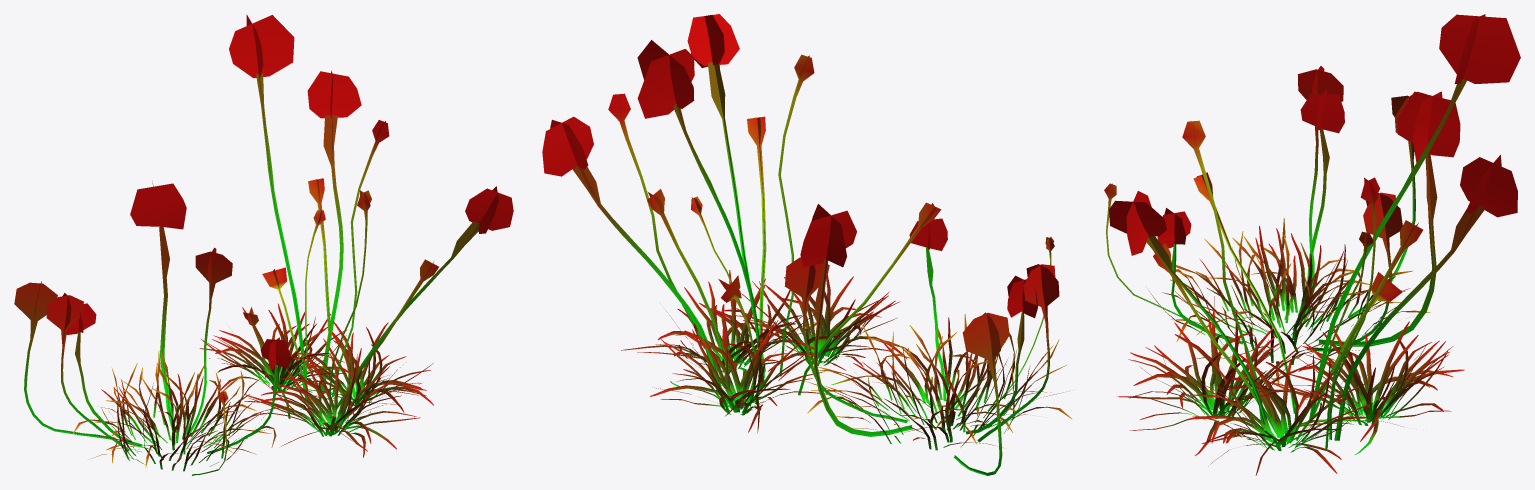
Rendered from Var6_LOD1.fbx.
3 views of the same model, side by side, from view 1: azimuth 30°, elevation 25°; view 2: azimuth 150°, elevation 25°; view 3: azimuth 270°, elevation 25° (orthographic). The views are drawn at different scales.
Parts seen in each view (by area): view 1: _xwj9_Var6_LOD1; view 2: _xwj9_Var6_LOD1; view 3: _xwj9_Var6_LOD1.
Boxes of the visible parts, <box> form: _xwj9_Var6_LOD1: <box>14,14,513,475</box>; _xwj9_Var6_LOD1: <box>542,14,1072,475</box>; _xwj9_Var6_LOD1: <box>1104,14,1520,475</box>.
Bounding box in the file's own units: 24.61 × 20.59 × 18.1.
